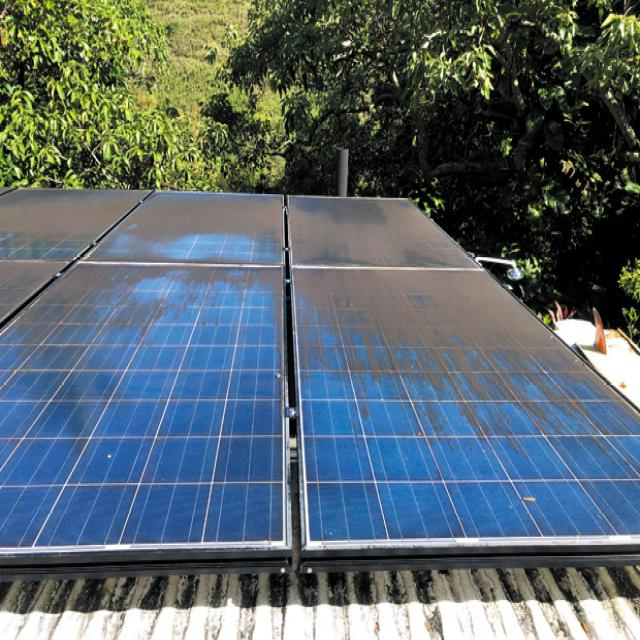dust-solar-panel: (0, 185, 607, 407)
